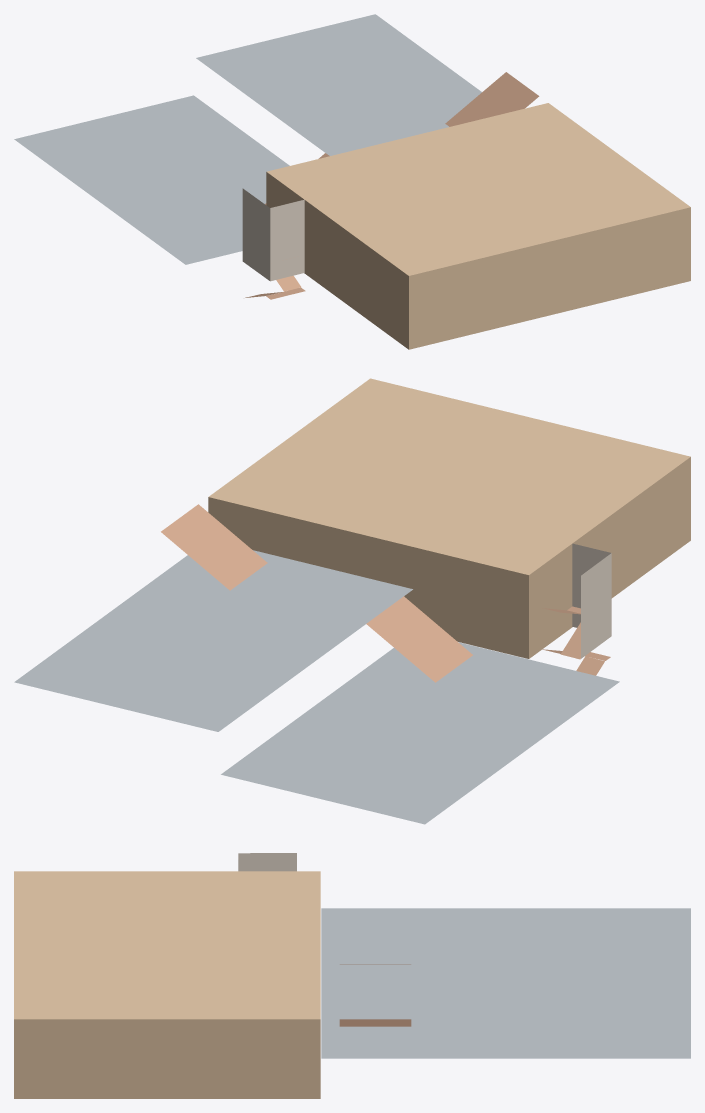
3 views of the same model, one above another, from view 1: azimuth 30°, elevation 25°; view 2: azimuth 150°, elevation 25°; view 3: azimuth 270°, elevation 25° (orthographic). The views are drawn at different scales.
Parts seen in each view (by area): view 1: Cube.016, 平面, 平面.001, Cube.019, 立方體.180, 立方體.164, 立方體.160; view 2: Cube.016, 平面, 平面.001, Cube.019, 立方體.160, 立方體.173, 立方體.180, 立方體.164; view 3: Cube.016, 平面.001, 平面, Cube.019, 立方體.180, 立方體.160.
Part boxes in pixels (left/top/right/bottom): Cube.016: left=266, top=103, right=690, bottom=312; 平面: left=14, top=95, right=289, bottom=264; 平面.001: left=196, top=14, right=481, bottom=155; Cube.019: left=304, top=237, right=690, bottom=349; 立方體.180: left=242, top=188, right=304, bottom=244; 立方體.164: left=242, top=225, right=304, bottom=281; 立方體.160: left=445, top=72, right=539, bottom=126; Cube.016: left=208, top=378, right=690, bottom=616; 平面: left=221, top=642, right=619, bottom=824; 平面.001: left=14, top=550, right=412, bottom=731; Cube.019: left=252, top=499, right=690, bottom=658; 立方體.160: left=161, top=504, right=267, bottom=590; 立方體.173: left=366, top=596, right=472, bottom=682; 立方體.180: left=572, top=543, right=611, bottom=616; 立方體.164: left=572, top=585, right=611, bottom=658; Cube.016: left=14, top=871, right=320, bottom=1059; 平面.001: left=321, top=964, right=690, bottom=1058; 平面: left=321, top=908, right=690, bottom=964; Cube.019: left=14, top=1059, right=320, bottom=1098; 立方體.180: left=238, top=853, right=296, bottom=871; 立方體.160: left=339, top=1019, right=411, bottom=1026.
Size of the model in its own units: 30.84 by 8.98 by 46.34.
